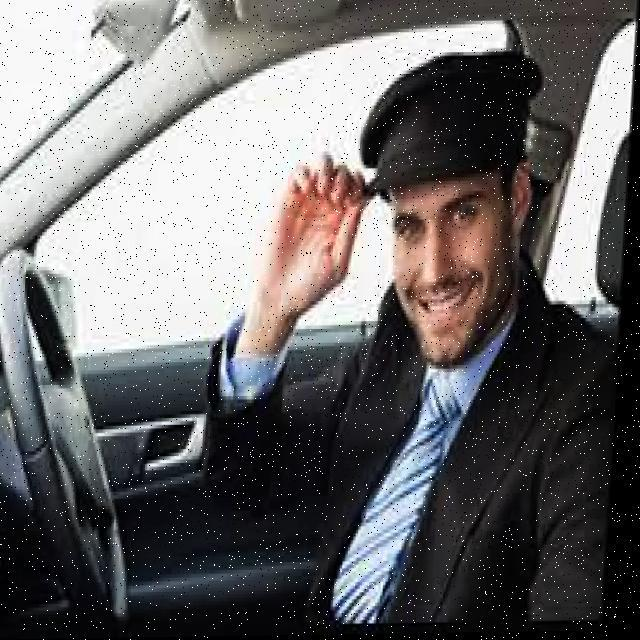noSeatbelt: (287, 242, 628, 636)
